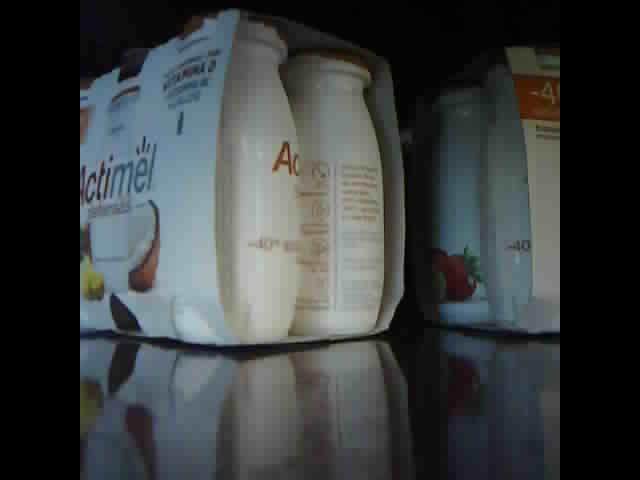actimel: (80, 8, 409, 353), (423, 46, 560, 339)
